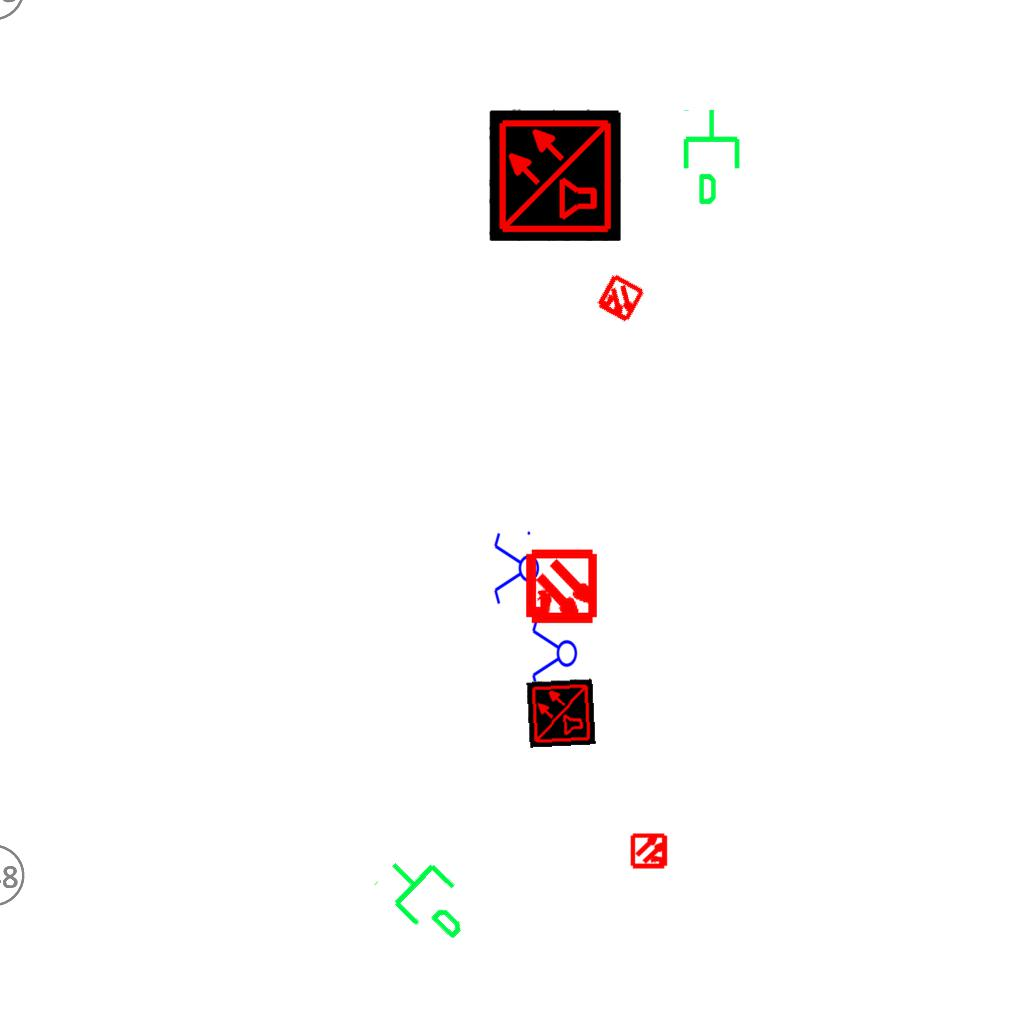Datenanschluss_einfach: (368, 836, 489, 956), (679, 107, 748, 207)
OKW_Multisensormelder_(Kombination_optischer_Rauch-Kahlenmonoxid_Waerme-Melder): (489, 109, 621, 241), (526, 678, 596, 748)
OT_Multisensormelder_(Kombination_RMO_WMD): (505, 532, 618, 645), (581, 260, 659, 338), (622, 823, 678, 879)
Serienschalter: (530, 612, 578, 696), (492, 527, 540, 611)
